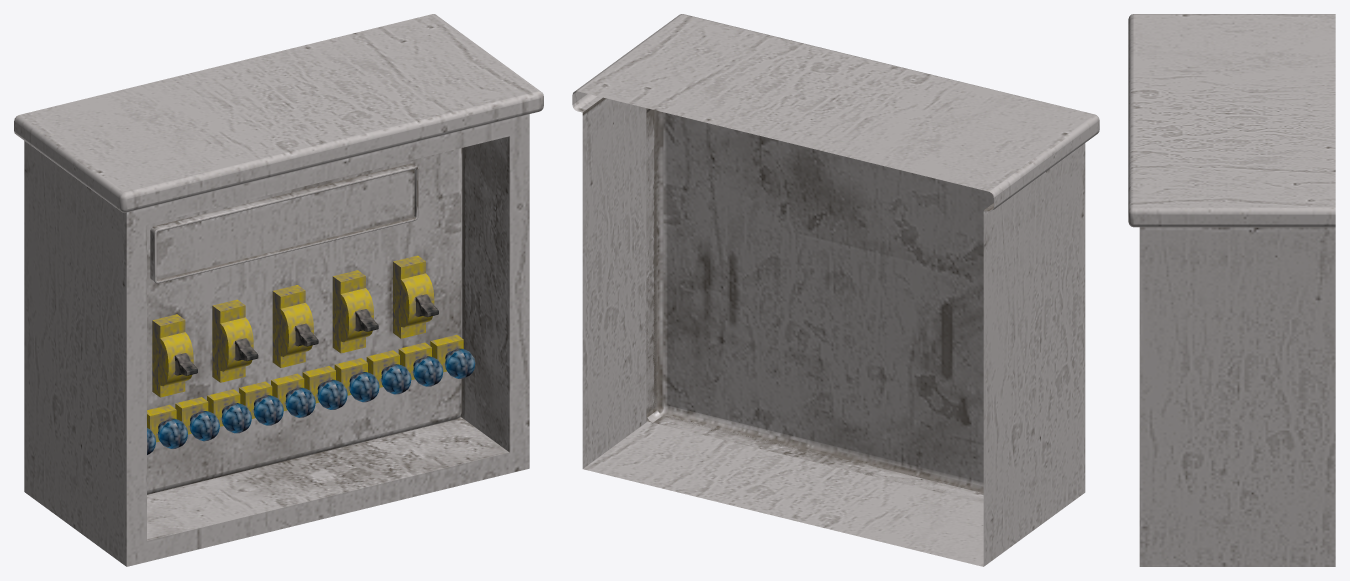
Rendered from electrobox.fbx.
The picture shows the model from 3 angles, left to right: view 1: azimuth 30°, elevation 25°; view 2: azimuth 150°, elevation 25°; view 3: azimuth 270°, elevation 25°; orthographic projection. The views are drawn at different scales.
Visible parts, largest first — view 1: Electrobox.002, Electrobox.003, Electrobox.004, light.009, light.008, light.011, light.004, light.005, light.007, light.010, light.002, light.006 (+1 smaller); view 2: Electrobox.002; view 3: Electrobox.002.
Boxes of the visible parts, x1,y1,x2,y2 form: Electrobox.002: [14, 14, 543, 566]; Electrobox.003: [152, 255, 434, 397]; Electrobox.004: [147, 334, 463, 442]; light.009: [381, 364, 411, 394]; light.008: [349, 372, 379, 402]; light.011: [445, 348, 475, 378]; light.004: [221, 403, 251, 433]; light.005: [253, 395, 283, 425]; light.007: [317, 379, 347, 409]; light.010: [413, 356, 443, 386]; light.002: [157, 418, 187, 448]; light.006: [285, 387, 315, 417]; Electrobox.002: [572, 14, 1099, 566]; Electrobox.002: [1128, 14, 1335, 566].
Size of the model in its own units: 67.82 by 57.91 by 30.03.
Materials: 1 (1 with a texture image).
